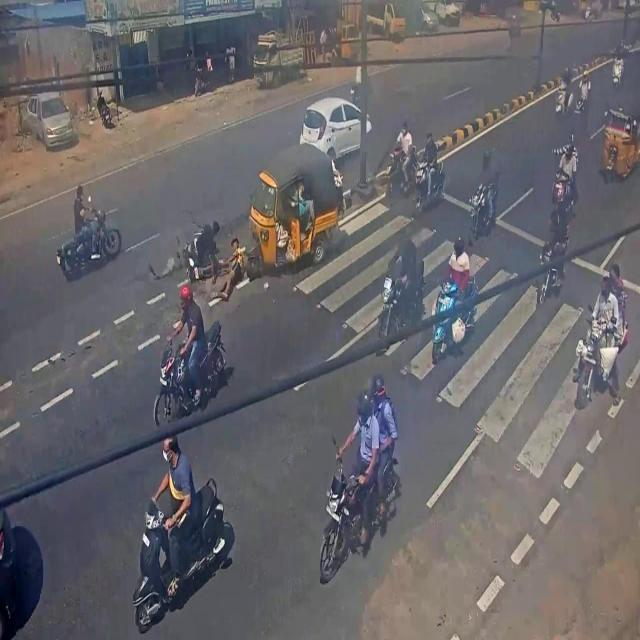accident: (145, 145, 345, 307)
